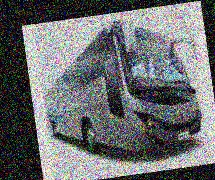bus: (37, 11, 207, 171)
